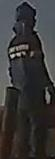gloves: (45, 82, 55, 105)
vest: (8, 31, 46, 106)
